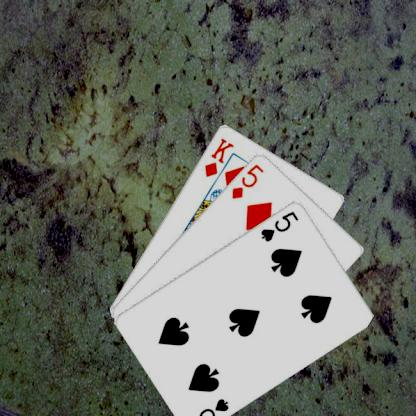5D: (228, 161, 266, 200)
5S: (258, 208, 299, 243), (189, 395, 231, 416)
KD: (201, 135, 235, 179)
